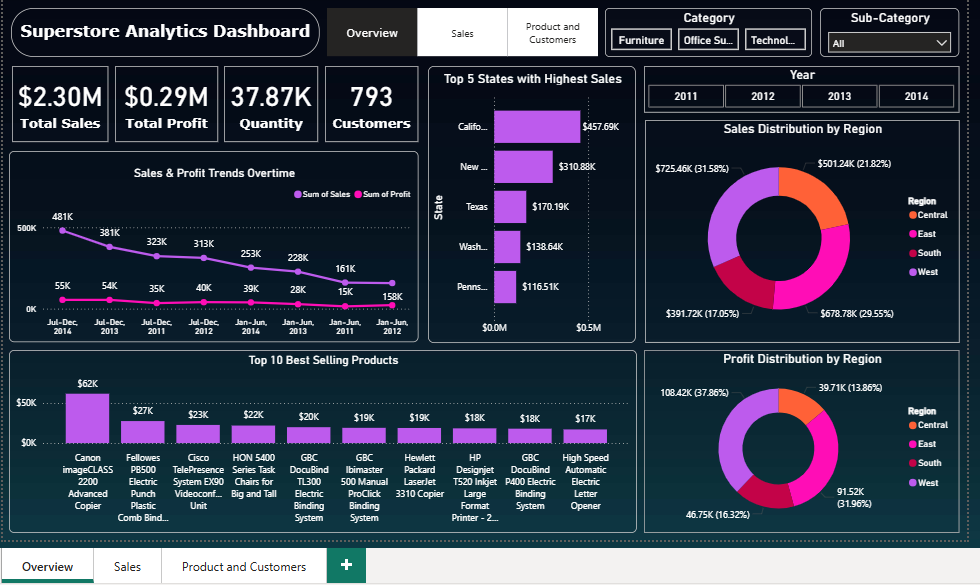

This screenshot's page, from the dashboard's own definition file:
{"tool":"powerbi","page":{"name":"Overview","canvas":[1280,720],"ordinal":0},"visuals":[{"type":"textbox","box":[10.3,13.2,410.3,64.7],"z":0},{"type":"pageNavigator","box":[430.9,13.2,360.3,64.7],"z":1000},{"type":"card","title":"Total Sales","fields":{"Values":["Sum(Orders.Sales)"]},"box":[11.8,89.7,127.9,101.5],"z":2000},{"type":"card","fields":{"Values":["Sum(Orders.Profit)"]},"box":[148.5,89.7,136.8,101.5],"z":3000},{"type":"card","fields":{"Values":["Sum(Orders.Quantity)"]},"box":[294.1,89.7,125,101.5],"z":4000},{"type":"card","fields":{"Values":["Count(Orders.Customer ID)"]},"box":[427.9,89.7,123.5,101.5],"z":5000},{"type":"lineChart","title":"Sales & Profit Trends Overtime","fields":{"Category":["Date Table.CustomTimeInterval"],"Y":["Sum(Orders.Sales)","Sum(Orders.Profit)"]},"box":[7.4,202.9,544.1,254.4],"z":6000},{"type":"clusteredColumnChart","title":"Top 10 Best Selling Products","fields":{"Category":["Orders.Product Name"],"Y":["Sum(Orders.Sales)"]},"box":[7.4,467.6,833.8,242.6],"z":7000},{"type":"clusteredBarChart","title":"Top 5 States with Highest Sales","fields":{"Category":["Orders.State"],"Y":["Sum(Orders.Sales)"]},"box":[564.7,89.7,276.5,367.6],"z":8000},{"type":"advancedSlicerVisual","fields":{"Values":["Orders.Category"]},"box":[800,13.2,275,64.7],"z":9000},{"type":"slicer","title":"Sub-Category","fields":{"Values":["Orders.Sub-Category"]},"box":[1085.3,13.2,185.3,64.7],"z":10000},{"type":"advancedSlicerVisual","fields":{"Values":["Date Table.Year"]},"box":[851.5,89.7,419.1,61.8],"z":11000},{"type":"donutChart","title":"Sales Distribution by Region","fields":{"Y":["Sum(Orders.Sales)"],"Series":["Orders.Region"]},"box":[852.9,161.8,417.6,295.6],"z":12000},{"type":"donutChart","title":"Profit Distribution by Region","fields":{"Y":["Sum(Orders.Profit)"],"Series":["Orders.Region"]},"box":[851.5,467.6,419.1,242.6],"z":13000}]}

Visuals, with their boxes in screenshot pixels (x1, y1, x2, y2):
textbox: crop(5, 5, 315, 54)
pageNavigator: crop(323, 5, 595, 54)
"Total Sales" card: crop(6, 63, 103, 139)
card - Sum(Orders.Profit): crop(110, 63, 213, 139)
card - Sum(Orders.Quantity): crop(220, 63, 314, 139)
card - Count(Orders.Customer ID): crop(321, 63, 414, 139)
"Sales & Profit Trends Overtime" lineChart: crop(3, 148, 414, 340)
"Top 10 Best Selling Products" clusteredColumnChart: crop(3, 348, 633, 531)
"Top 5 States with Highest Sales" clusteredBarChart: crop(424, 63, 633, 340)
advancedSlicerVisual - Orders.Category: crop(601, 5, 809, 54)
"Sub-Category" slicer: crop(817, 5, 957, 54)
advancedSlicerVisual - Date Table.Year: crop(640, 63, 957, 109)
"Sales Distribution by Region" donutChart: crop(641, 117, 957, 340)
"Profit Distribution by Region" donutChart: crop(640, 348, 957, 531)
